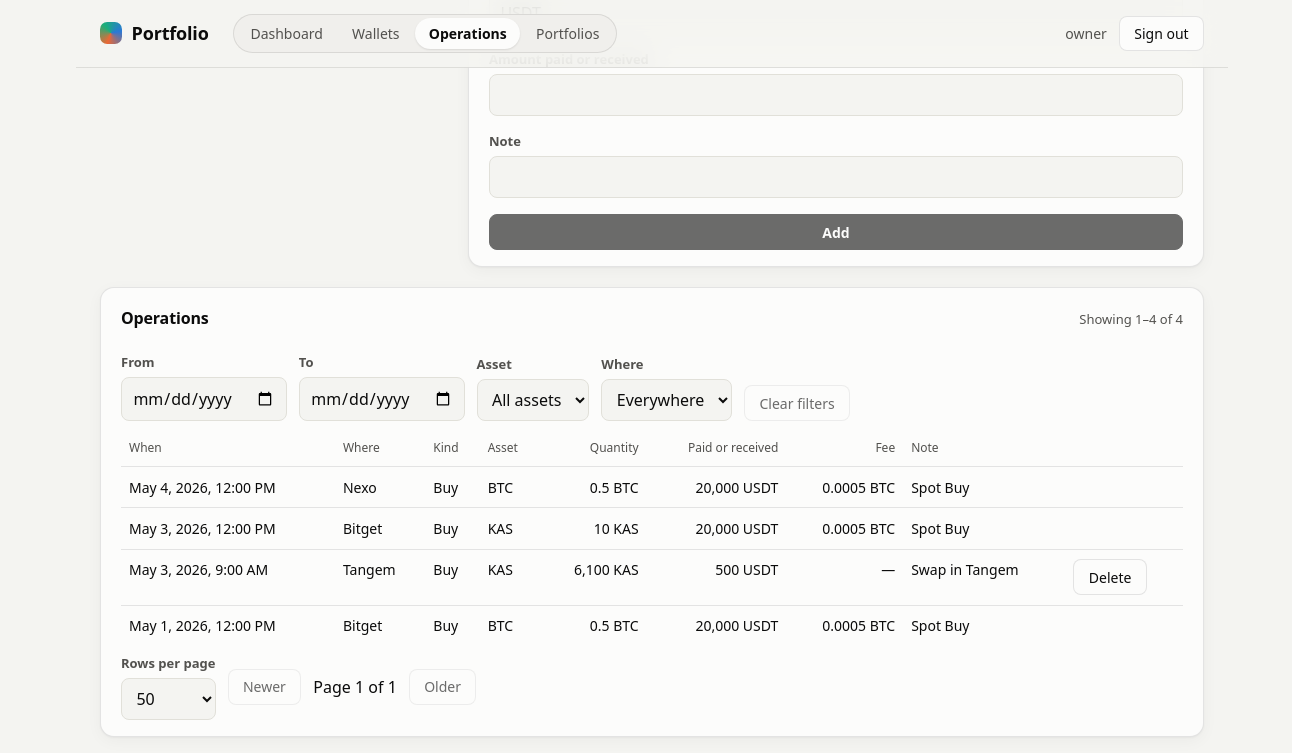
OperationsPage: filters and page size › offers every asset and venue stored, filters by each, and clears them
The image size is (1292, 753).
(page scrolled)
Expected: the button "Clear filters" is disabled, [744,385,850,421]
Select "KAS" in the dropdown labelled "Asset" at (533, 400), box [477,379,589,421]
(page scrolled)
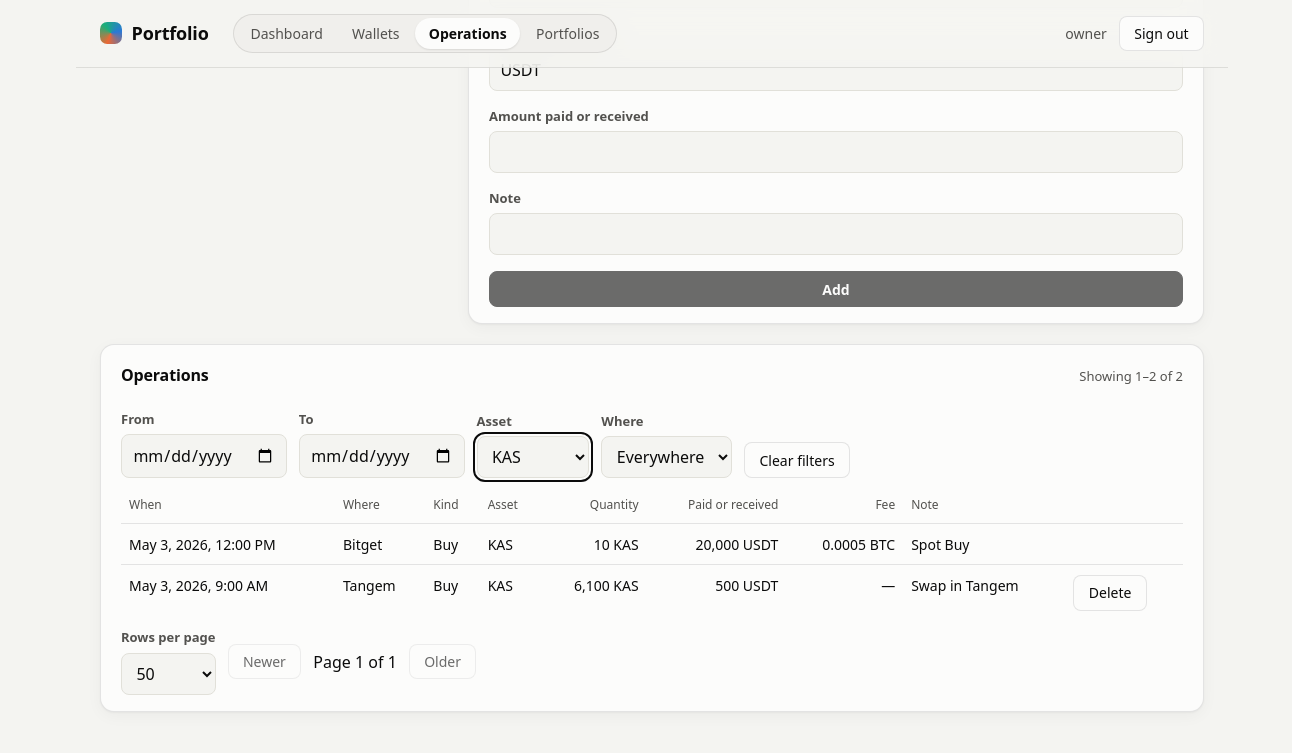
Expected: the message reads "Showing 1–2 of 2", [1079,367,1183,385]
Select "Tangem" in the dropdown labelled "Where" at (667, 457), box [601,436,732,478]
(page scrolled)
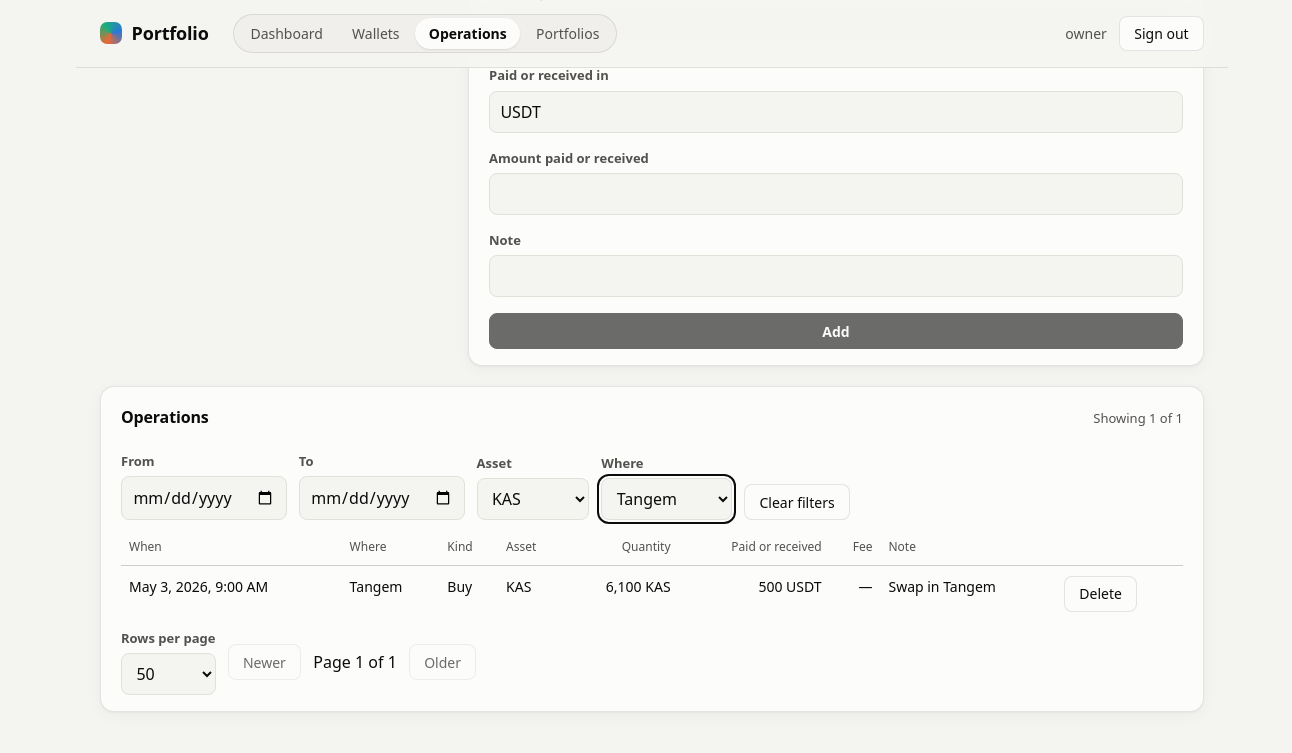
Click the button "Clear filters" at (797, 502), box [744,484,850,520]
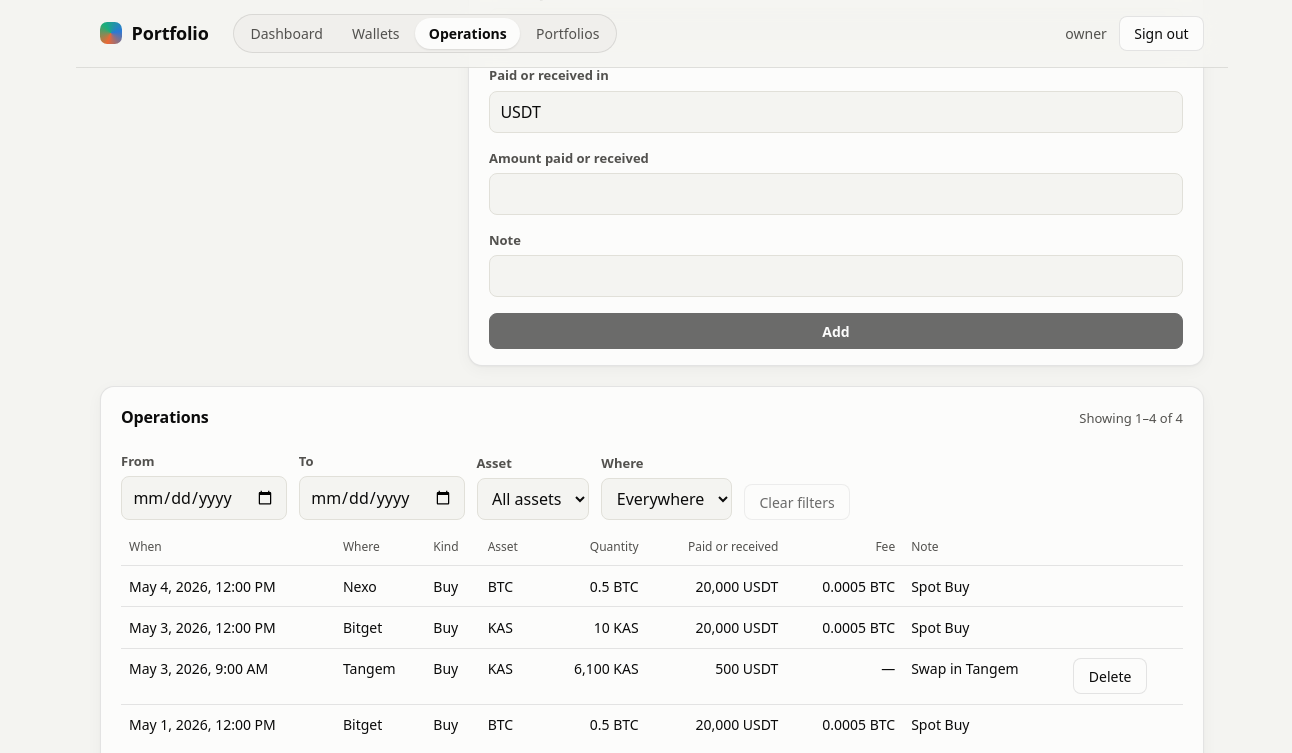
Expected: the button "Clear filters" is disabled, [744,484,850,520]
